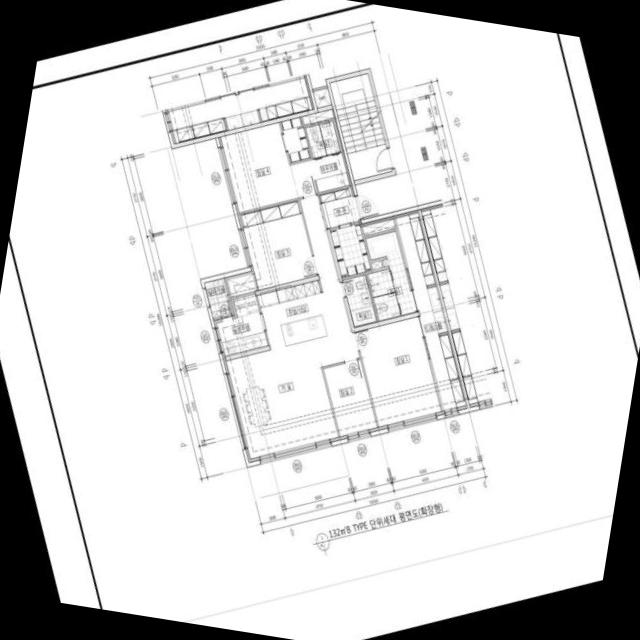background: (0, 0, 640, 640)
space_bedroom: (355, 316, 441, 429), (218, 122, 317, 212), (238, 200, 317, 290), (323, 359, 378, 439)
space_dressroom: (413, 286, 467, 410), (395, 210, 436, 289), (309, 151, 351, 192)
space_elevator_hall: (355, 98, 442, 219)
space_front: (319, 186, 360, 228)
space_kitchen: (257, 279, 333, 349), (214, 293, 268, 356)
space_living_room: (224, 195, 360, 462)
space_other: (330, 222, 371, 277), (280, 117, 311, 162), (225, 271, 257, 297), (361, 216, 395, 235), (302, 109, 334, 125), (313, 87, 331, 108), (371, 260, 382, 269)
space_outdoor_room: (204, 278, 231, 318)
space_staircase: (330, 73, 392, 180)
space_toilet: (365, 230, 415, 315), (342, 274, 377, 327), (367, 268, 395, 297), (373, 292, 401, 320), (319, 121, 340, 155), (306, 124, 326, 158)
